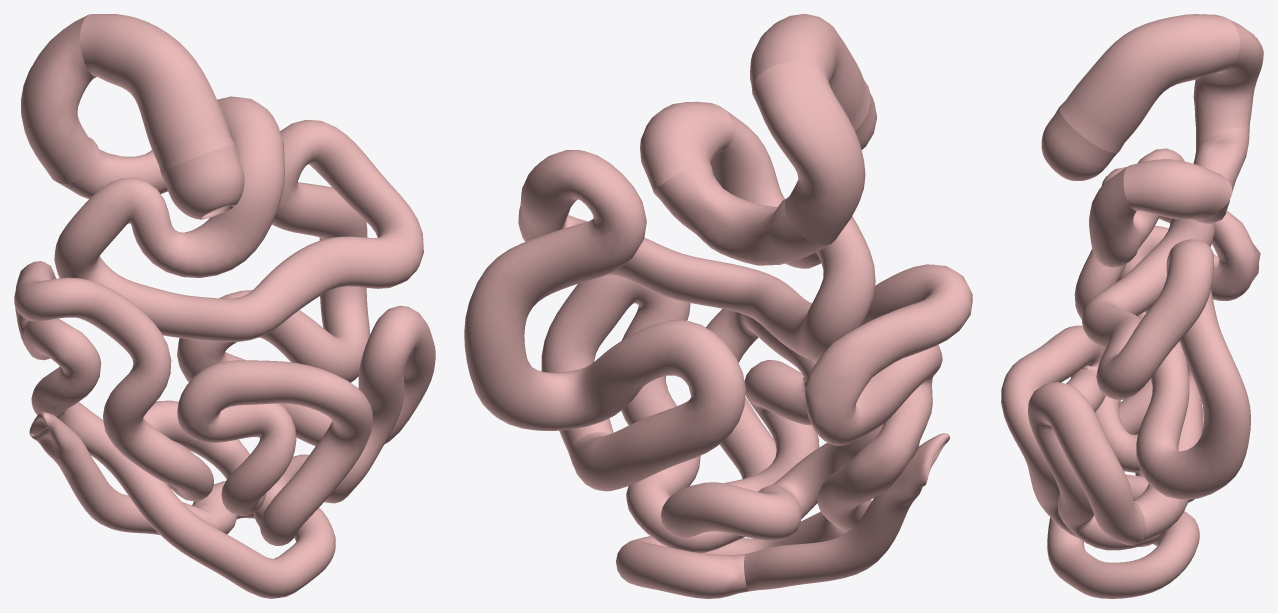
The model's file is VH_F_Small_Intestine.fbx.
3 views of the same model, side by side, from view 1: azimuth 30°, elevation 25°; view 2: azimuth 150°, elevation 25°; view 3: azimuth 270°, elevation 25° (orthographic). The views are drawn at different scales.
Parts seen in each view (by area): view 1: VH_F_ileum, VH_F_jejenum, VH_F_duodenum_superior, VH_F_duodenum_descending, VH_F_ileum_terminal, VH_F_duodenal_ampulla, VH_F_duodenum_horizontal, VH_F_duodenum_ascending; view 2: VH_F_ileum, VH_F_jejenum, VH_F_duodenum_descending, VH_F_ileum_terminal, VH_F_duodenum_horizontal, VH_F_duodenum_superior, VH_F_duodenum_ascending; view 3: VH_F_jejenum, VH_F_ileum, VH_F_duodenum_superior, VH_F_duodenum_ascending, VH_F_duodenum_descending, VH_F_duodenal_ampulla, VH_F_duodenum_horizontal.
Part boxes in pixels (box(x1,y1,x2,y2)): VH_F_ileum: box(14, 261, 435, 598); VH_F_jejenum: box(54, 120, 423, 446); VH_F_duodenum_superior: box(80, 14, 234, 173); VH_F_duodenum_descending: box(21, 14, 96, 183); VH_F_ileum_terminal: box(29, 411, 217, 535); VH_F_duodenal_ampulla: box(161, 145, 244, 219); VH_F_duodenum_horizontal: box(59, 137, 167, 198); VH_F_duodenum_ascending: box(217, 96, 281, 140); VH_F_ileum: box(541, 264, 972, 598); VH_F_jejenum: box(464, 107, 875, 491); VH_F_duodenum_descending: box(752, 62, 865, 245); VH_F_ileum_terminal: box(744, 433, 949, 591); VH_F_duodenum_horizontal: box(654, 163, 830, 265); VH_F_duodenum_superior: box(750, 14, 870, 130); VH_F_duodenum_ascending: box(640, 101, 733, 193); VH_F_jejenum: box(1082, 148, 1250, 542); VH_F_ileum: box(1001, 167, 1260, 598); VH_F_duodenum_superior: box(1059, 14, 1240, 153); VH_F_duodenum_ascending: box(1123, 159, 1232, 219); VH_F_duodenum_descending: box(1193, 17, 1263, 142); VH_F_duodenal_ampulla: box(1041, 108, 1119, 180); VH_F_duodenum_horizontal: box(1193, 128, 1249, 223).
Size of the model in its own units: 16.16 by 21.72 by 10.
